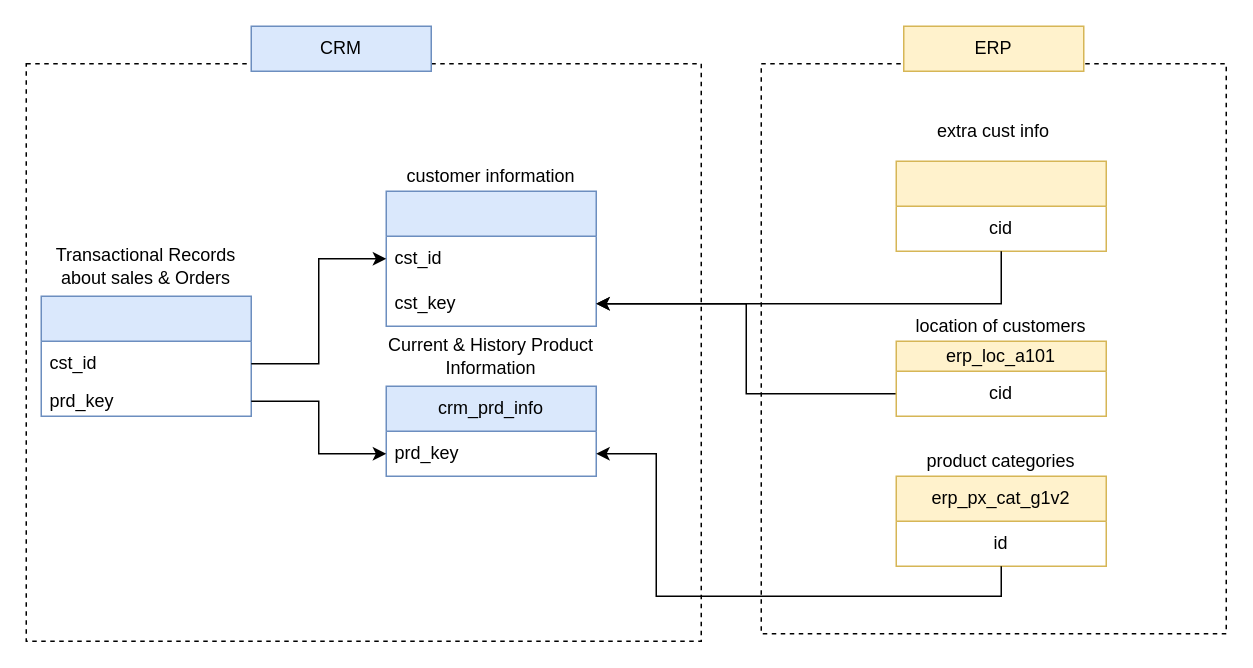
This 1253x668 diagram has some shape labels left out. The shapes that lost their labels are listed below. From the top down, each one's box as (x1, y1, x2, y2) in pixels, then its label:
(895, 160, 1106, 251): erp_cust_az12
(385, 190, 596, 326): crm_cust_info
(40, 295, 251, 416): crm_sales_details
